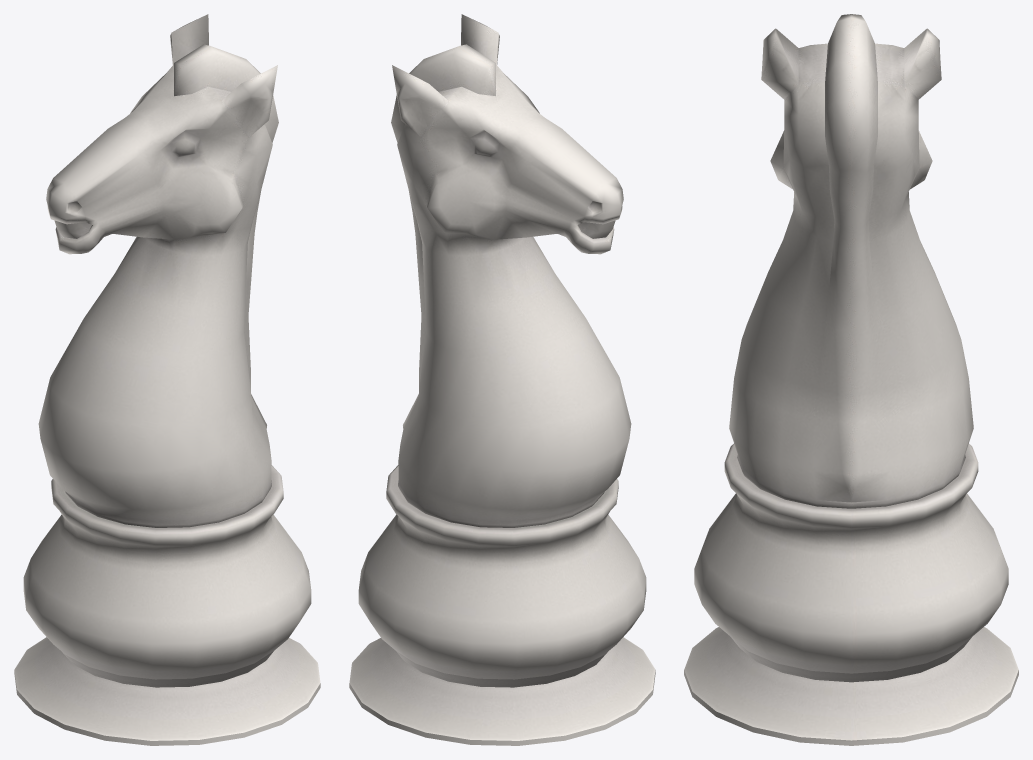
Rendered from White_Knight.dae.
The picture shows the model from 3 angles, left to right: view 1: azimuth 30°, elevation 25°; view 2: azimuth 150°, elevation 25°; view 3: azimuth 270°, elevation 25°; orthographic projection. The views are drawn at different scales.
Parts seen in each view (by area): view 1: White_knight; view 2: White_knight; view 3: White_knight.
Part boxes in pixels (x1=…): White_knight: x1=14, y1=14, x2=320, y2=745; White_knight: x1=349, y1=14, x2=655, y2=745; White_knight: x1=684, y1=14, x2=1018, y2=745.
Size of the model in its own units: 1.62 by 3.63 by 1.62.
1 material, 1 textured.
